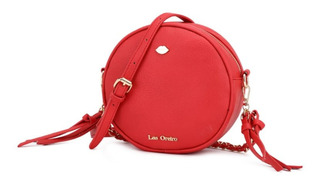cartera: (102, 12, 250, 154)
